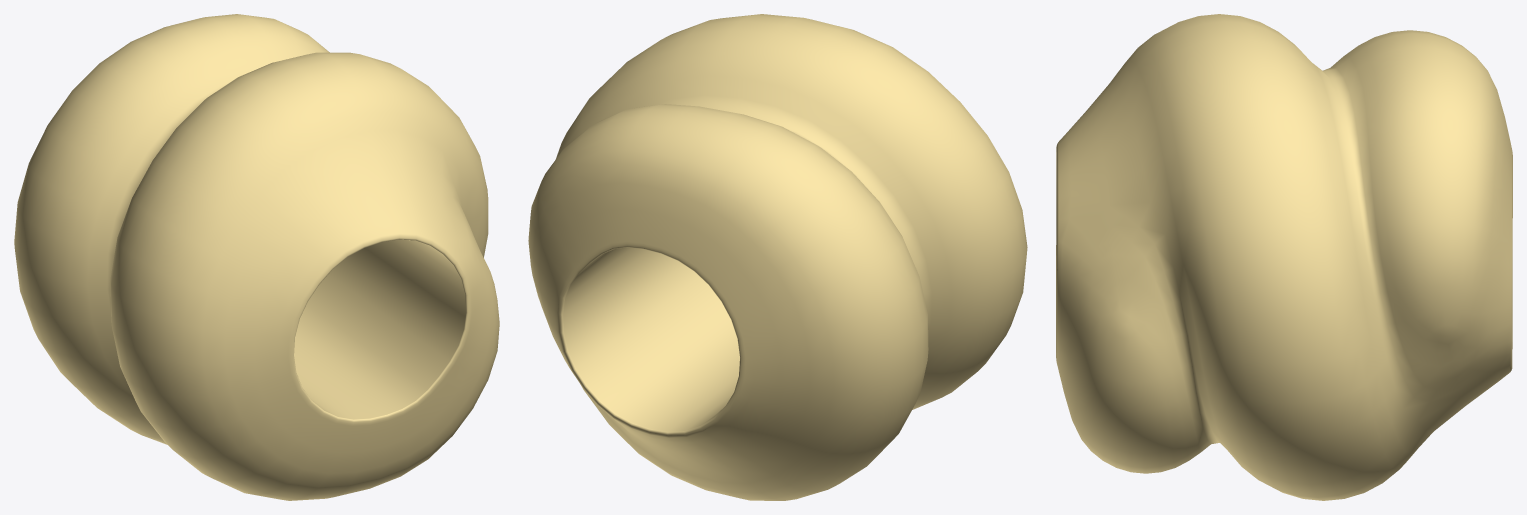
The model's file is Admire_6mm.glb.
3 renders of one model, left to right at view 1: azimuth 30°, elevation 25°; view 2: azimuth 150°, elevation 25°; view 3: azimuth 270°, elevation 25°, orthographic. The views are drawn at different scales.
Visible parts, largest first — view 1: Admire_Small; view 2: Admire_Small; view 3: Admire_Small.
Part boxes in pixels (box(x1,y1,x2,y2)): Admire_Small: box(14, 14, 499, 500); Admire_Small: box(528, 14, 1027, 500); Admire_Small: box(1056, 14, 1512, 500).
Size of the model in its own units: 0.00633 by 0.00624 by 0.0059.
